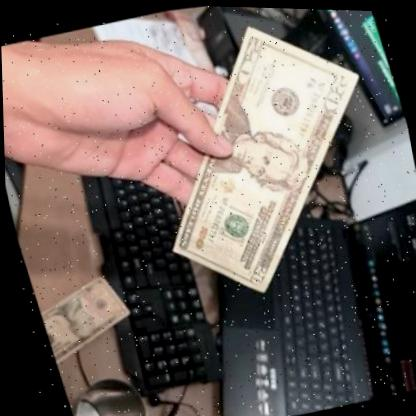twenty-front: (103, 2, 416, 319)
